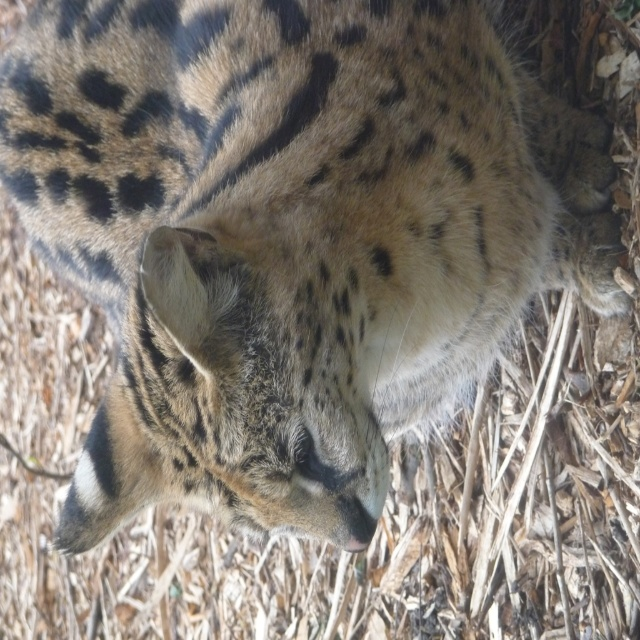Leopard: (0, 0, 631, 571)
